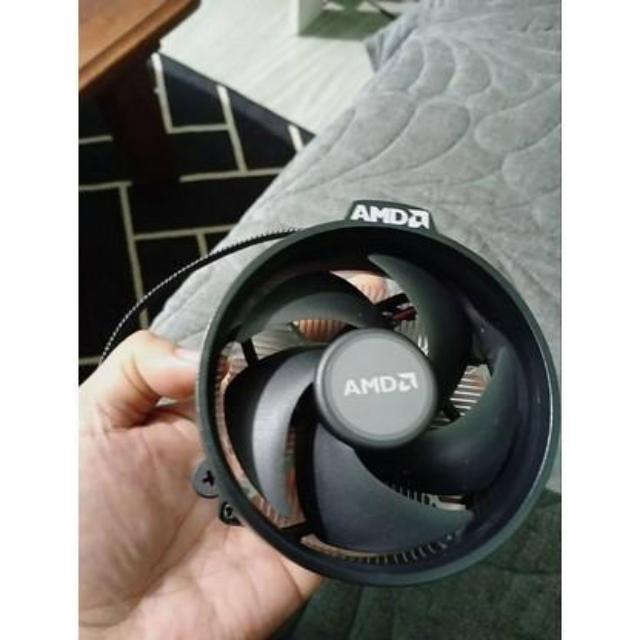CPU_Fan: (194, 202, 558, 582)
